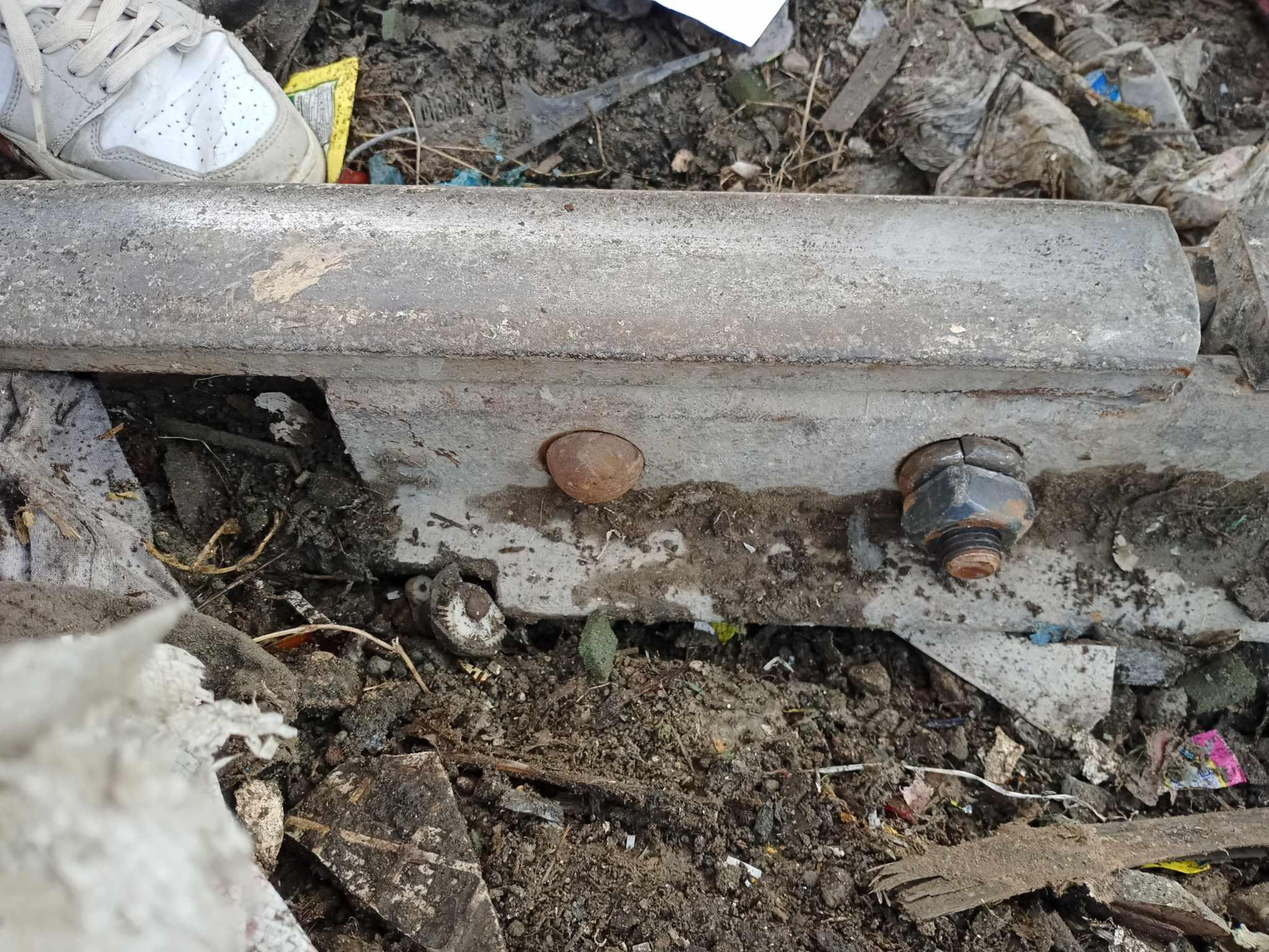railway-gap: (1137, 175, 1269, 402)
